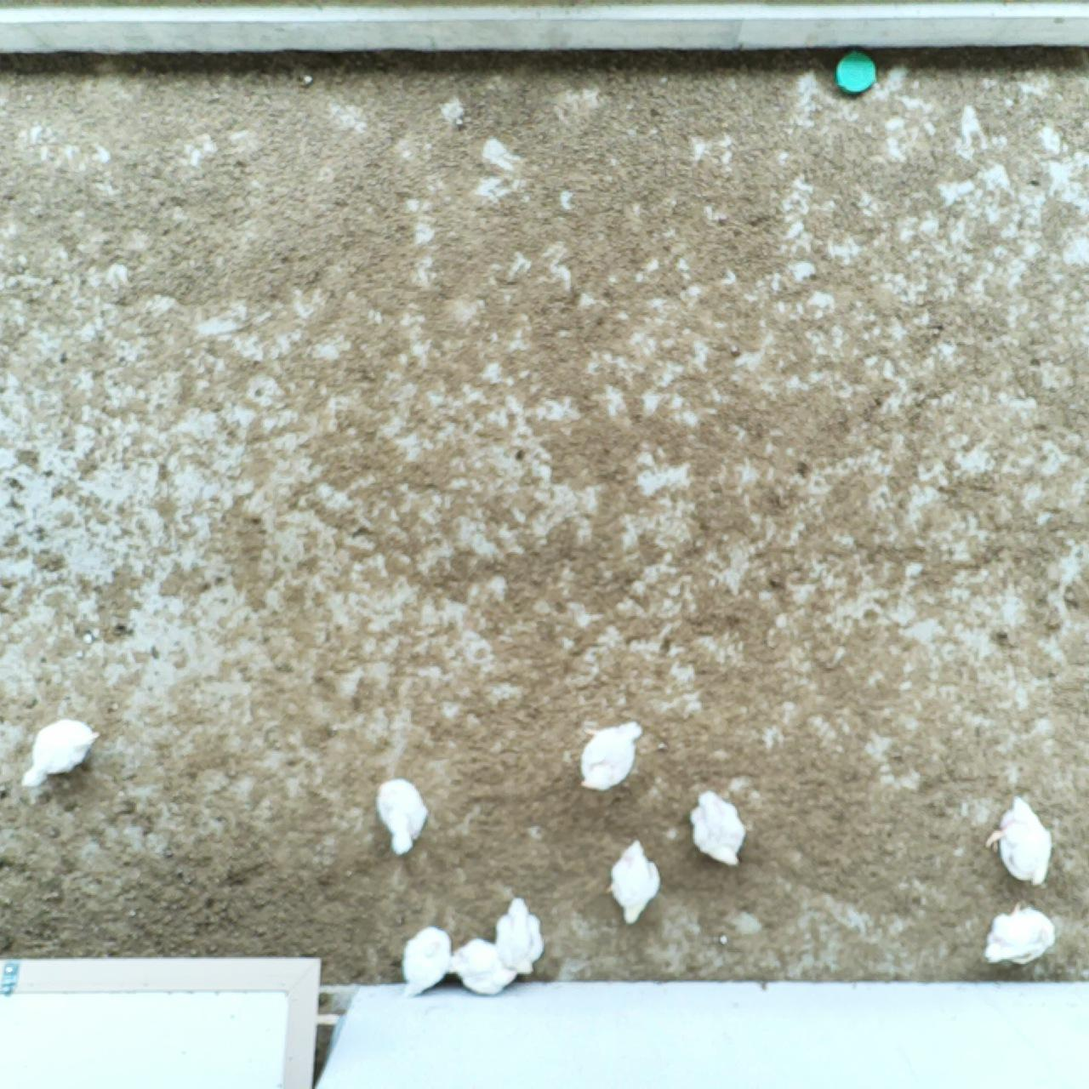chicken: (982, 792, 1055, 891), (19, 714, 103, 793), (601, 834, 664, 928), (981, 897, 1061, 970), (573, 719, 651, 793), (685, 785, 748, 872), (373, 774, 432, 861), (492, 893, 550, 978), (445, 935, 520, 997), (396, 923, 455, 999)
